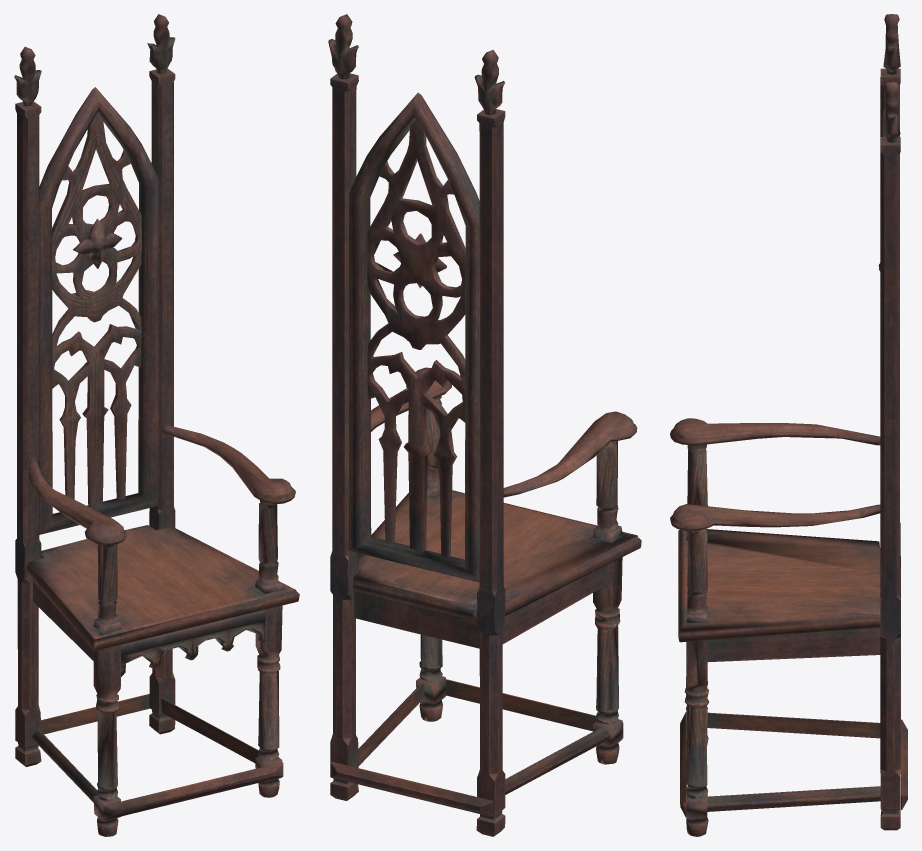
The model's file is WoodenChair_01.glb.
The picture shows the model from 3 angles, left to right: view 1: azimuth 30°, elevation 25°; view 2: azimuth 150°, elevation 25°; view 3: azimuth 270°, elevation 25°; orthographic projection. The views are drawn at different scales.
Visible parts, largest first — view 1: WoodenChair_01; view 2: WoodenChair_01; view 3: WoodenChair_01.
Boxes of the visible parts, left/top/right/bottom form: WoodenChair_01: left=14, top=14, right=299, bottom=836; WoodenChair_01: left=328, top=14, right=641, bottom=836; WoodenChair_01: left=670, top=14, right=907, bottom=836.
Size of the model in its own units: 0.6872 by 2.27 by 0.6575.
Materials: 1 (1 with a texture image).
